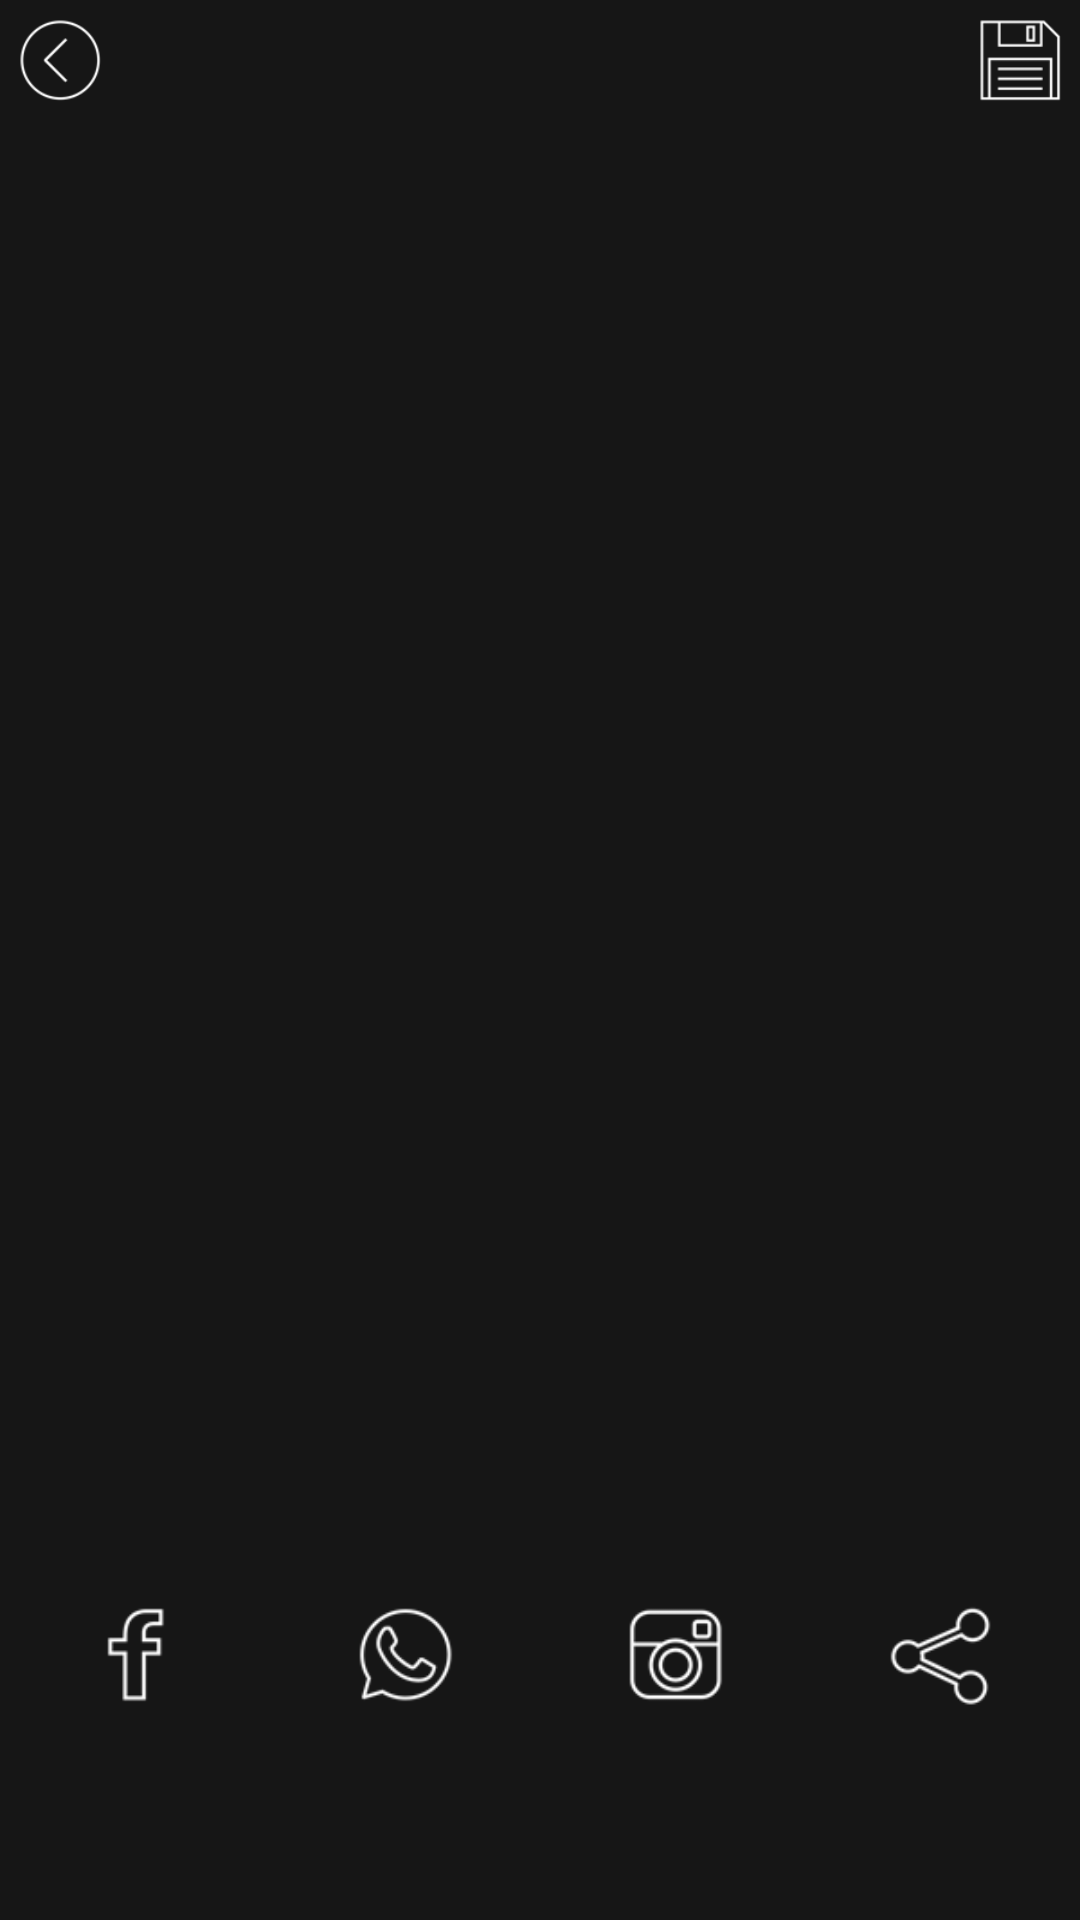

Icons on this 1080px x 1920px Android screen, each with its box as (x1, y1, x2, y2):
back: (20, 20, 100, 100)
save: (980, 20, 1060, 100)
share: (890, 1608, 990, 1705)
